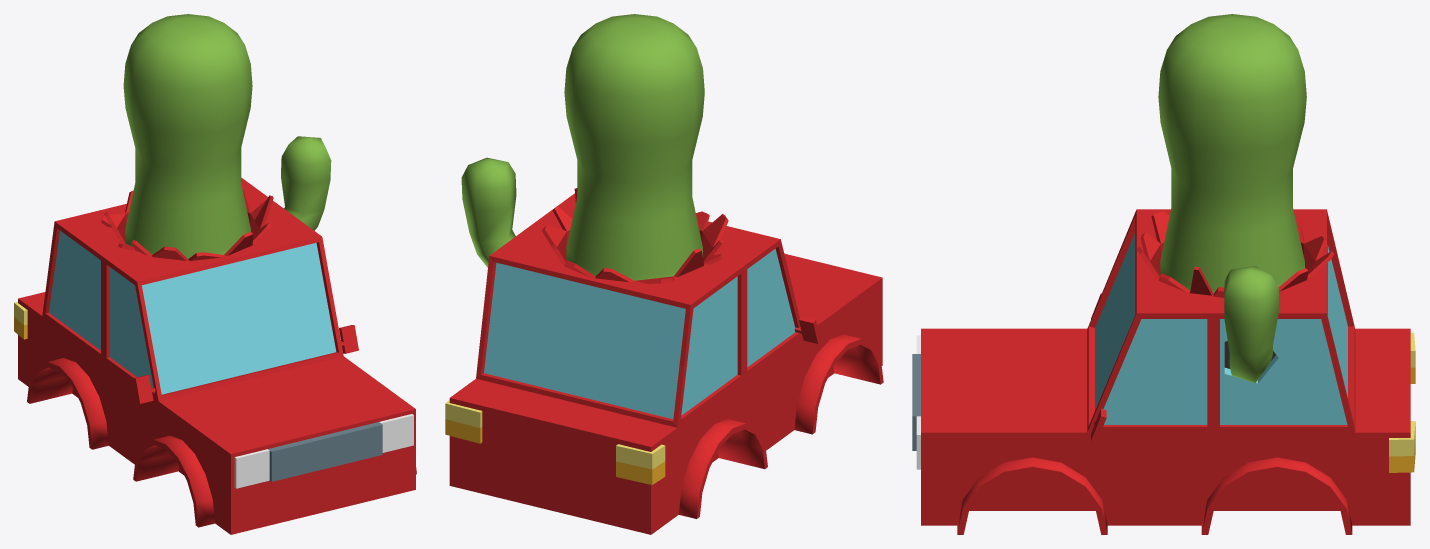
Rendered from red_car.fbx.
3 views of the same model, side by side, from view 1: azimuth 30°, elevation 25°; view 2: azimuth 150°, elevation 25°; view 3: azimuth 270°, elevation 25° (orthographic). The views are drawn at different scales.
Parts seen in each view (by area): view 1: car_1; view 2: car_1; view 3: car_1.
Boxes of the visible parts, x1=… form: car_1: x1=14, y1=14, x2=416, y2=534; car_1: x1=445, y1=14, x2=883, y2=534; car_1: x1=912, y1=14, x2=1415, y2=534.
Size of the model in its own units: 414 by 595 by 609.
